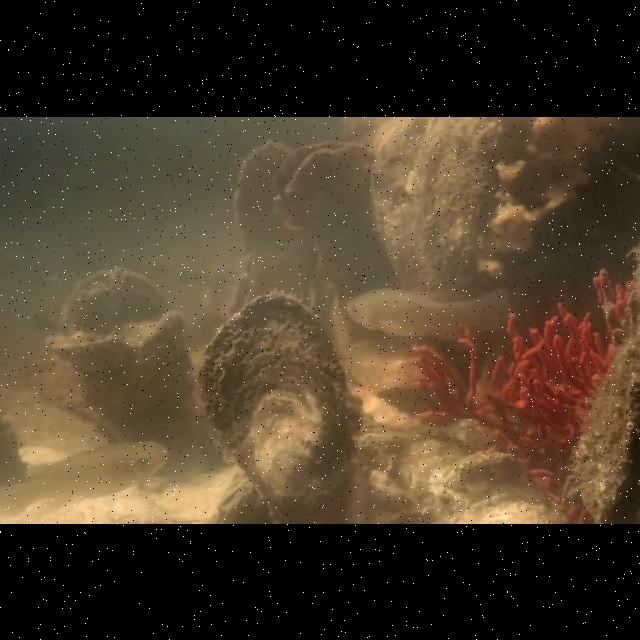Oyster-Closed: (196, 291, 354, 523), (43, 310, 193, 438), (432, 449, 556, 523), (59, 269, 170, 341), (236, 139, 294, 265)
Oyster-Open: (272, 138, 380, 272)
